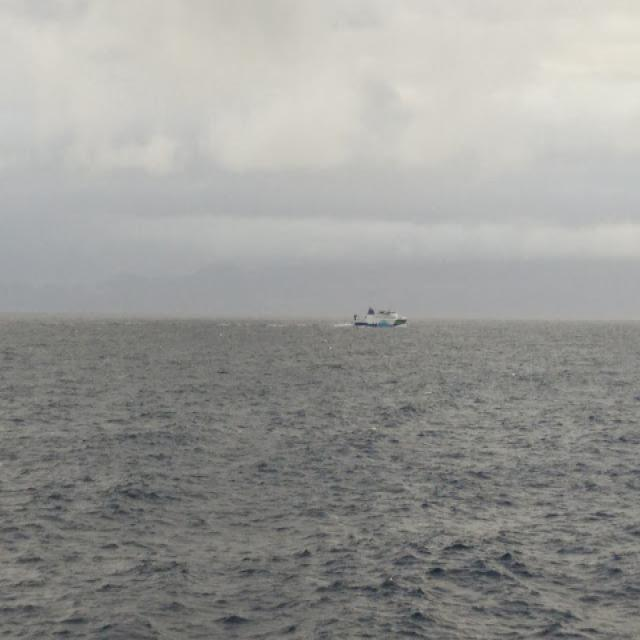houseboat: (353, 306, 407, 326)
